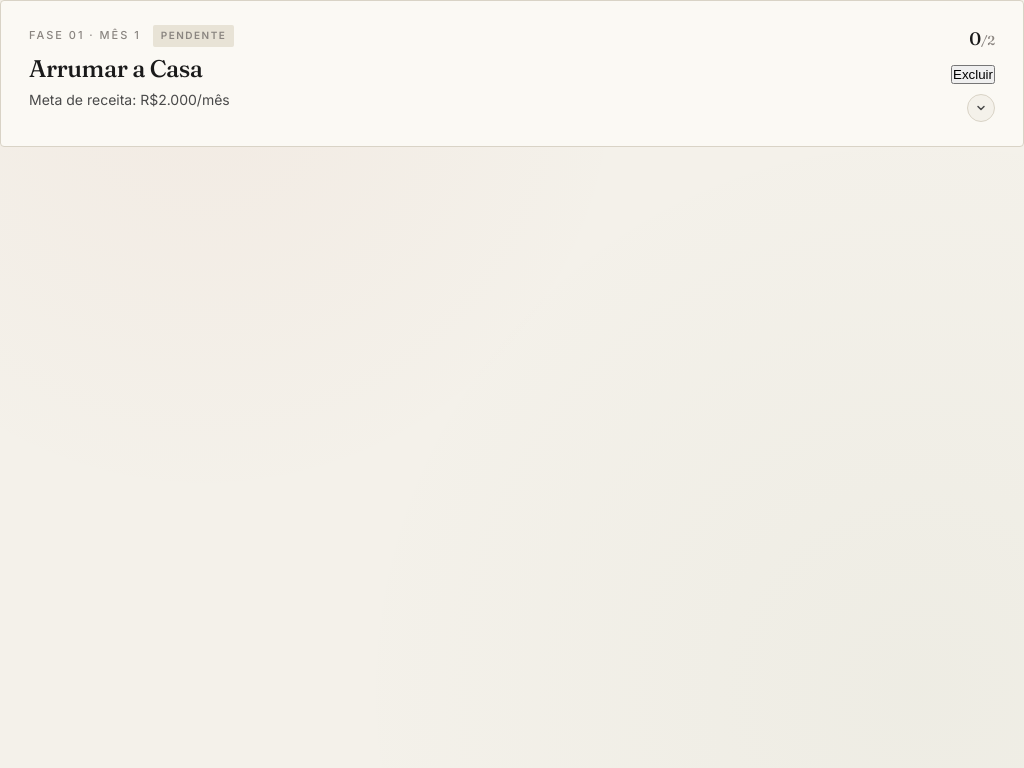
Test: Fase › admin actions — delete fase › should show confirmation dialog with task count when delete is clicked
Click the button with test id "btn-delete-fase-fase-1" at (973, 74), box [951,65,995,84]
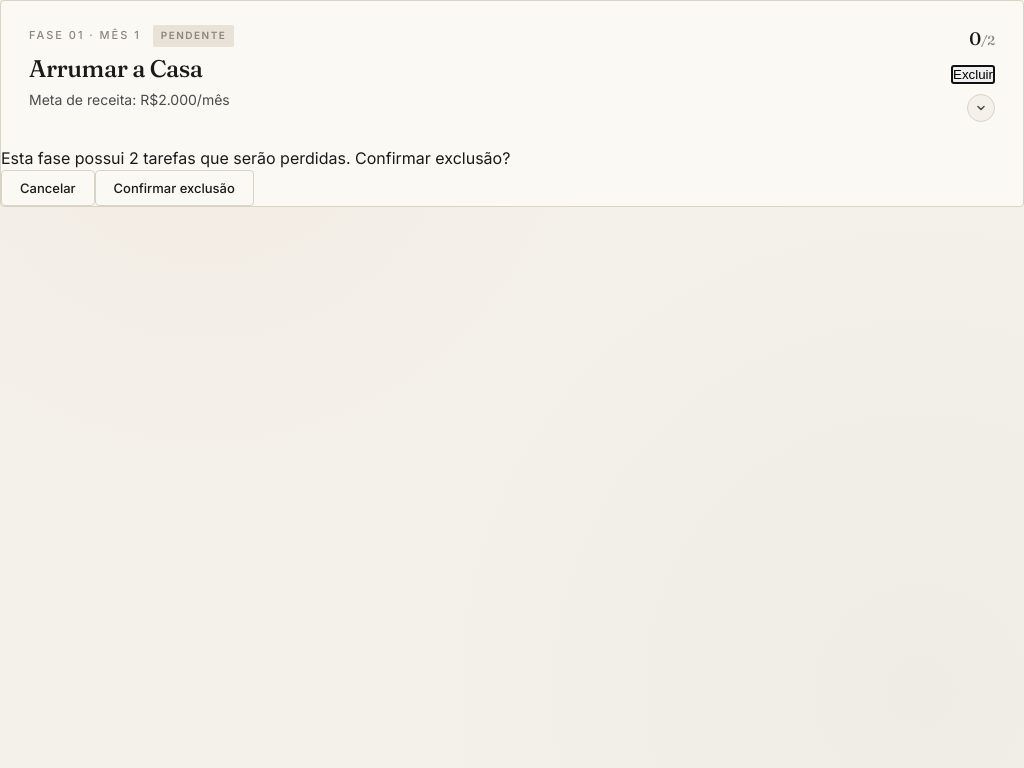
expect the dialog with test id "dialog-confirm-delete-fase-fase-1" is shown: met, box [1,148,510,206]
expect the text "2 tarefa" is shown: met, box [1,148,510,168]
